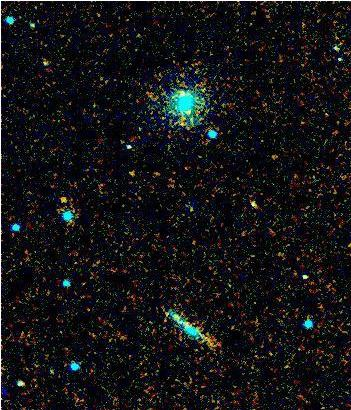star: (48, 183, 78, 213)
